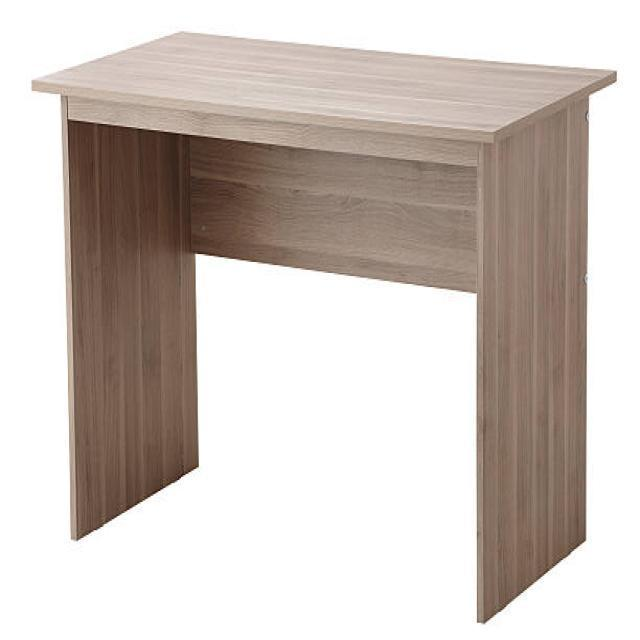table: (30, 27, 617, 622)
